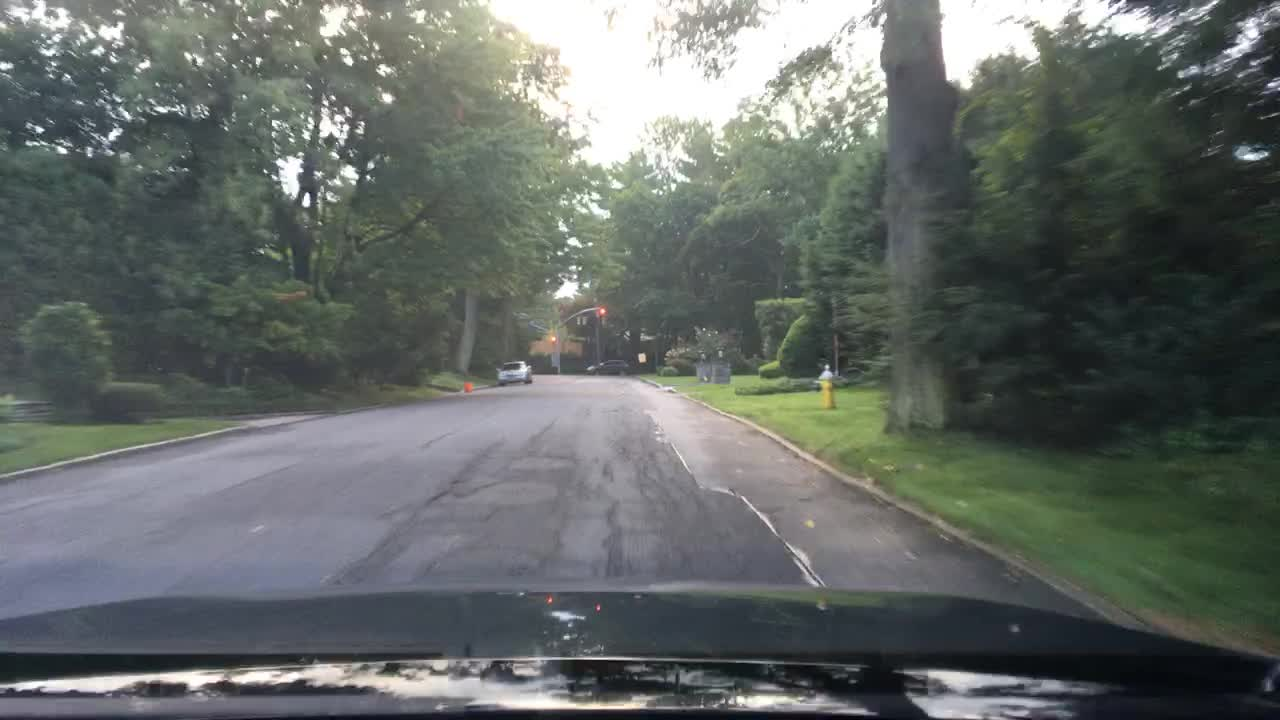car: (495, 359, 531, 386), (586, 357, 631, 376)
traffic light: (550, 334, 559, 344), (598, 304, 606, 315)
